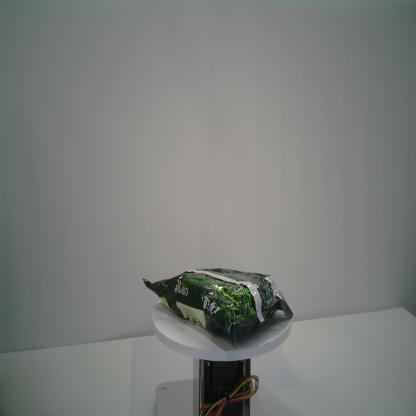Instant Noodles: (140, 262, 294, 346)
